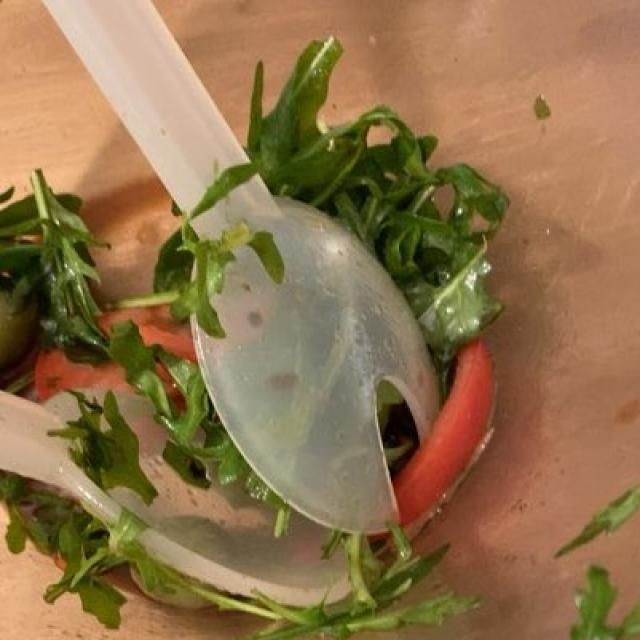salad: (18, 190, 426, 628), (260, 22, 482, 346)
tomato: (28, 307, 479, 516)
